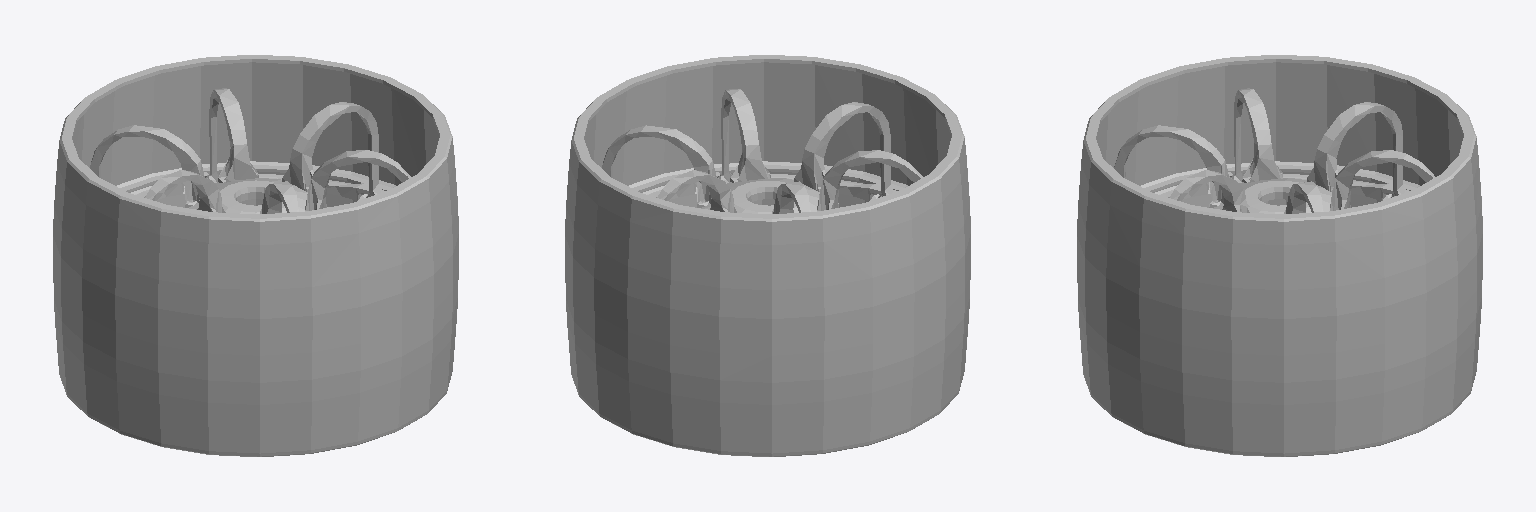
File: Wheel_RightRear.obj
3 renders of one model, left to right at view 1: azimuth 30°, elevation 25°; view 2: azimuth 150°, elevation 25°; view 3: azimuth 270°, elevation 25°, orthographic.
Parts seen in each view (by area): view 1: Wheel_RightRear.obj; view 2: Wheel_RightRear.obj; view 3: Wheel_RightRear.obj.
Part boxes in pixels (x1,y1,x2,y2): Wheel_RightRear.obj: (53, 55, 458, 456); Wheel_RightRear.obj: (565, 55, 970, 456); Wheel_RightRear.obj: (1077, 55, 1482, 456).
Size of the model in its own units: 0.5097 by 0.3306 by 0.5098.